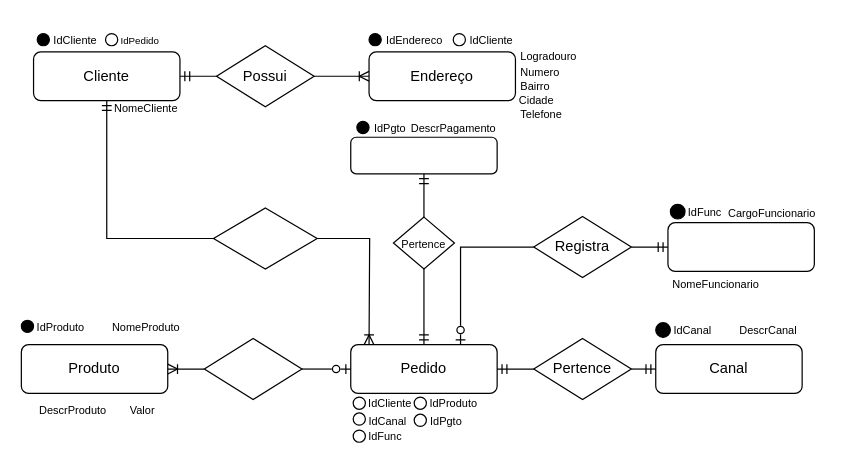
This 854x475 diagram has some shape labels left out. Here are the shapes that lost their labels. From the top down, the centre of each, then its label:
At (423,155): "Pagamento".
At (264,238): "Faz".
At (740,246): "Funcionario".
At (252,368): "Gera".
